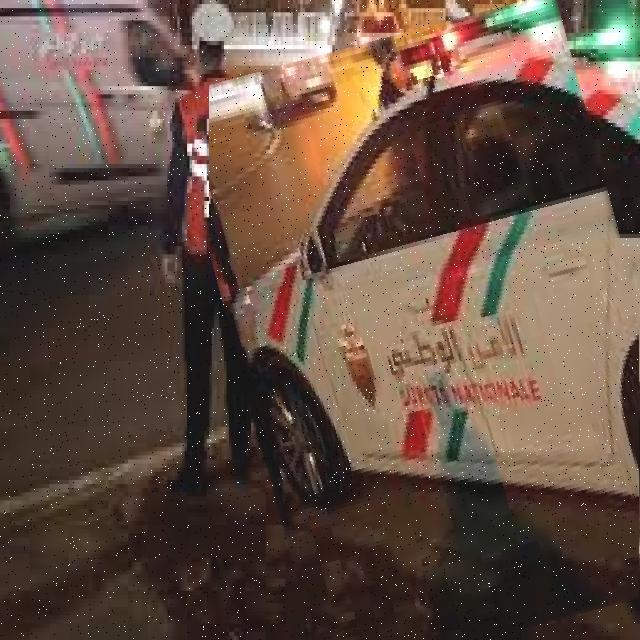police: (203, 12, 640, 640), (0, 0, 209, 238)
